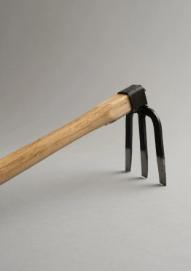HOUE: (0, 8, 185, 271)
